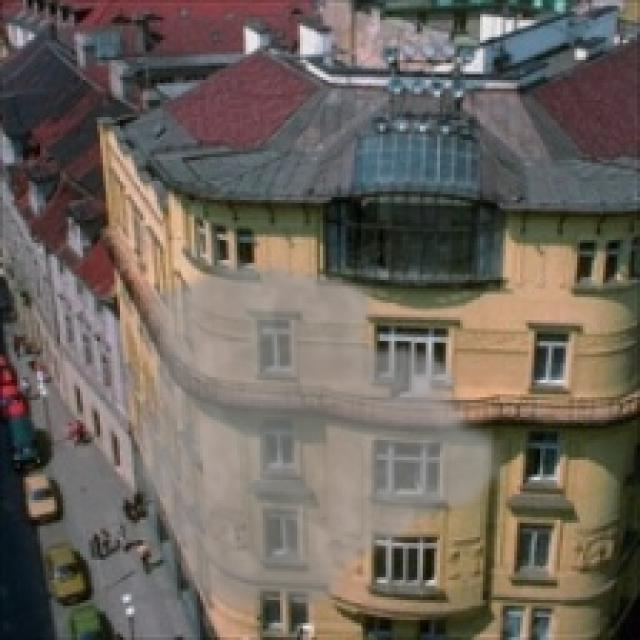smoke: (126, 254, 514, 623)
